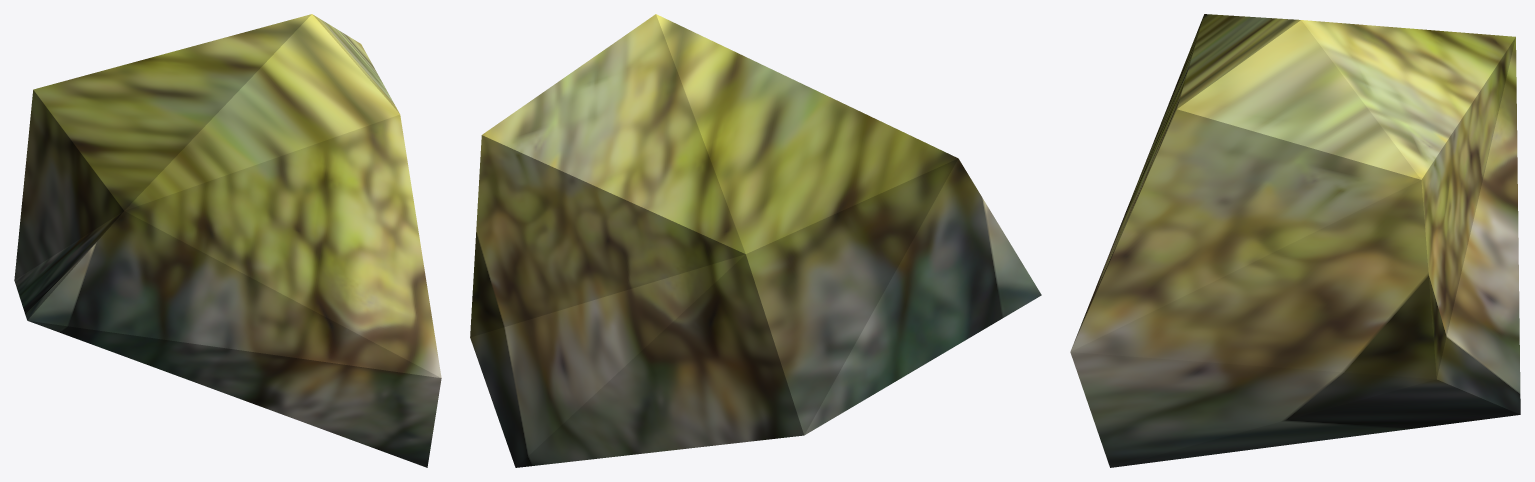
The model's file is TheOctagon_Floor_0_Rock_9.gltf.
3 views of the same model, side by side, from view 1: azimuth 30°, elevation 25°; view 2: azimuth 150°, elevation 25°; view 3: azimuth 270°, elevation 25° (orthographic). The views are drawn at different scales.
Parts seen in each view (by area): view 1: TheOctagon_Floor_0_Rock_9; view 2: TheOctagon_Floor_0_Rock_9; view 3: TheOctagon_Floor_0_Rock_9.
Boxes of the visible parts, x1,y1,x2,y2 form: TheOctagon_Floor_0_Rock_9: (14, 14, 441, 467); TheOctagon_Floor_0_Rock_9: (470, 14, 1041, 467); TheOctagon_Floor_0_Rock_9: (1070, 14, 1520, 467).
Bounding box in the file's own units: 4.36 × 3.88 × 3.66.
1 material, 1 textured.
